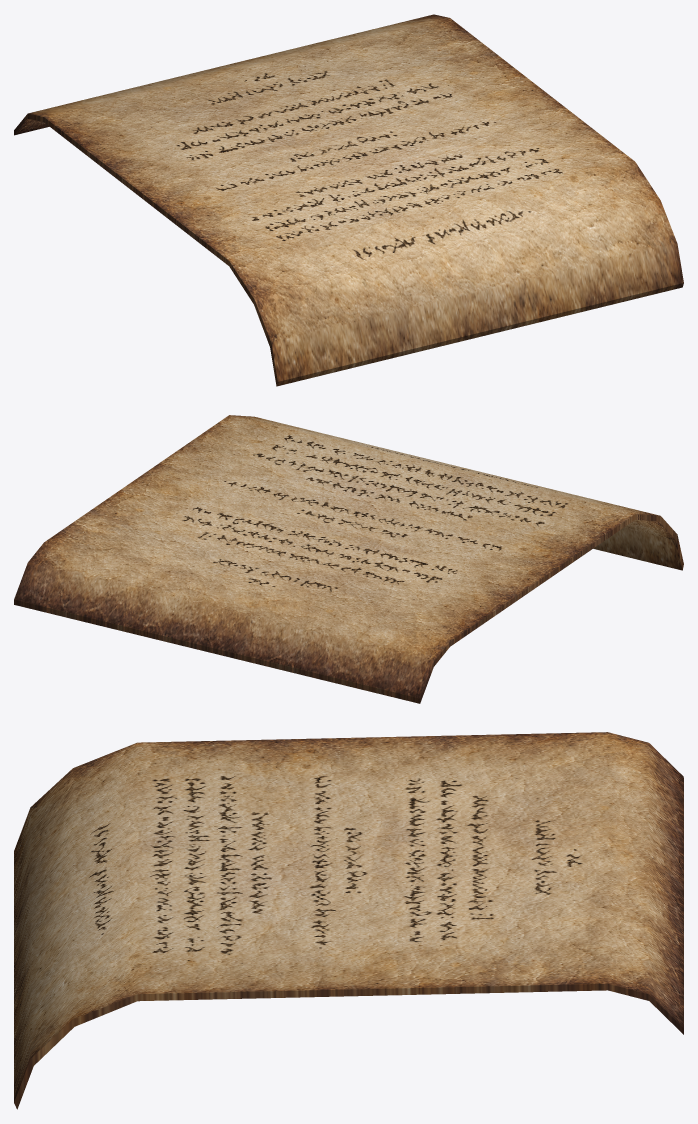
The model's file is mm9_deco_scrollp268.glb.
The picture shows the model from 3 angles, top to bottom: view 1: azimuth 30°, elevation 25°; view 2: azimuth 150°, elevation 25°; view 3: azimuth 270°, elevation 25°; orthographic projection. The views are drawn at different scales.
Parts seen in each view (by area): view 1: Scrollp268; view 2: Scrollp268; view 3: Scrollp268.
Part boxes in pixels (box(x1,y1,x2,y2)): Scrollp268: box(14, 14, 683, 386); Scrollp268: box(14, 415, 683, 703); Scrollp268: box(14, 732, 683, 1109).
Size of the model in its own units: 0.506 by 0.1182 by 0.5693.
1 material, 1 textured.
